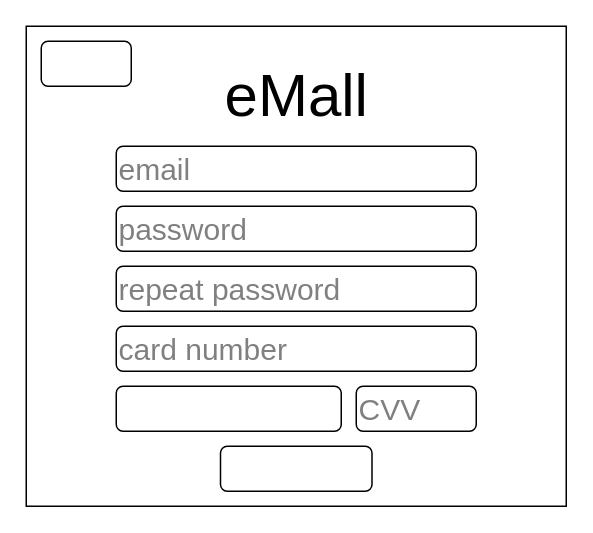
The diagram is 593 pixels wide and 533 high, and some of its shapes have lost their labels. Here are the shapes that lost their labels. From the top down, the box of each, then its label:
(40, 40, 131, 86): Back
(115, 385, 341, 431): expiry date
(219, 445, 372, 491): Sign up
